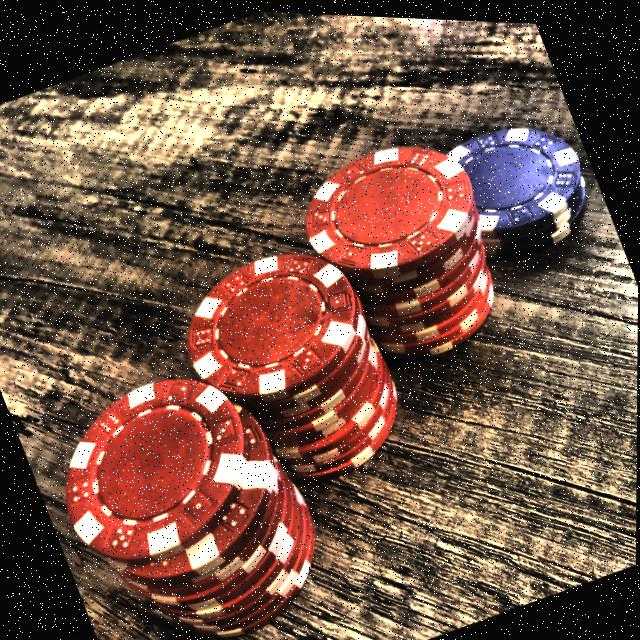Chip: (31, 335, 346, 640), (161, 221, 424, 511), (287, 113, 527, 382), (412, 93, 608, 281)
